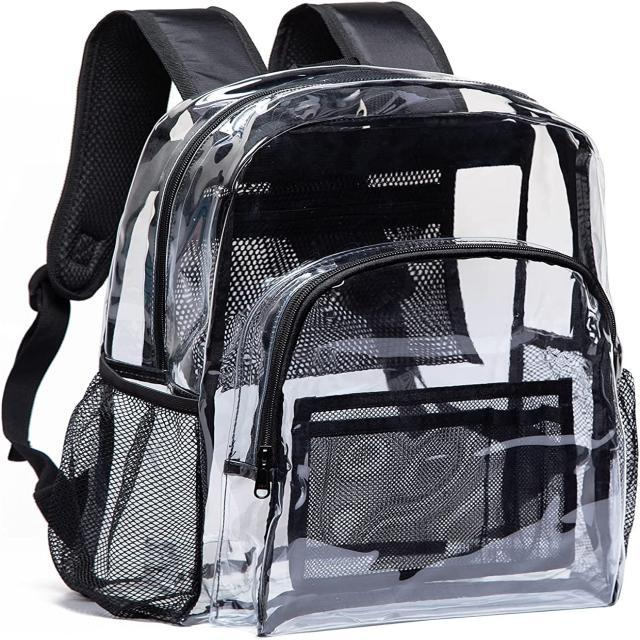Backpacks: (52, 64, 637, 632)
